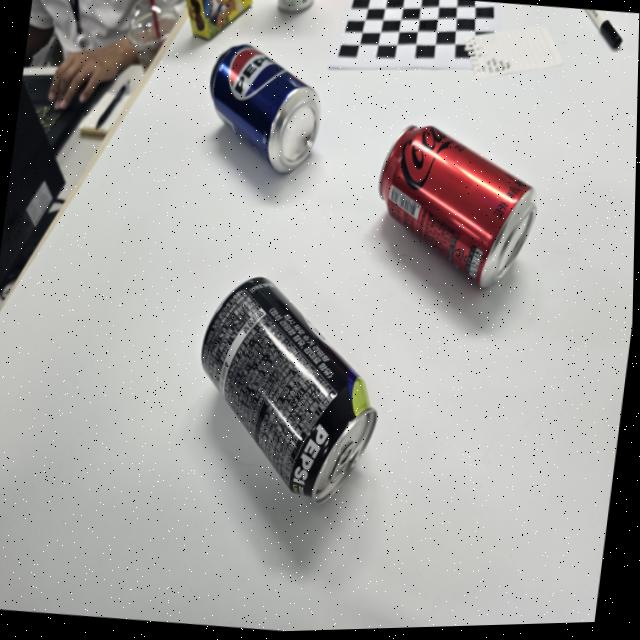can_coke_zero: (379, 125, 533, 286)
can_pepsi: (208, 41, 319, 173)
can_pepsi_zero: (198, 273, 375, 506)
